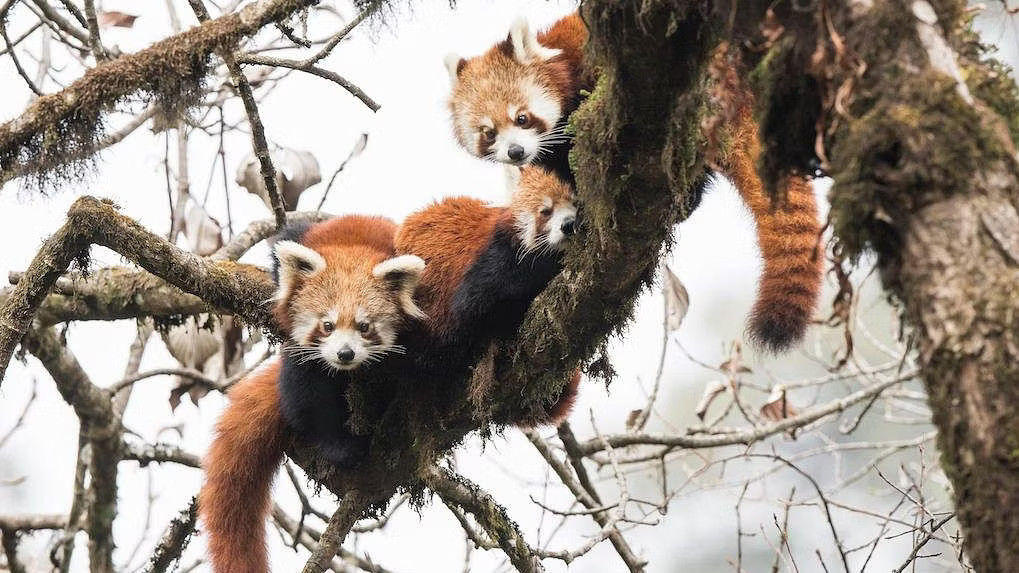Red panda: (272, 235, 430, 372), (439, 22, 566, 165), (511, 167, 584, 255)
